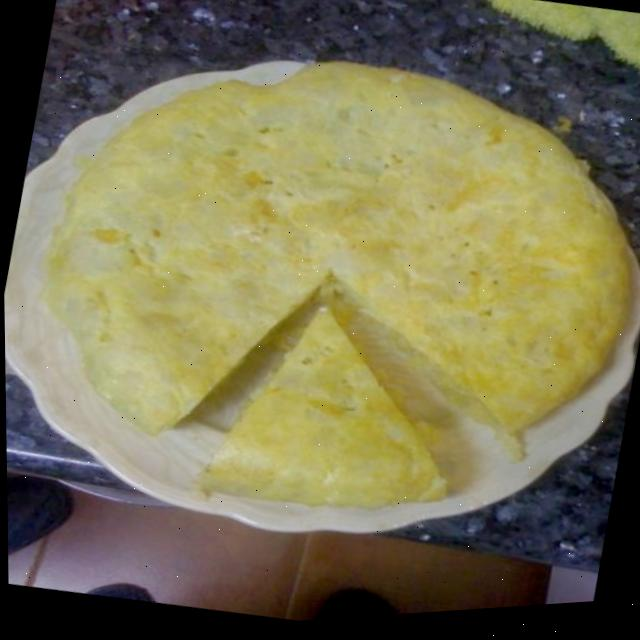面包点心: (19, 0, 640, 611)
